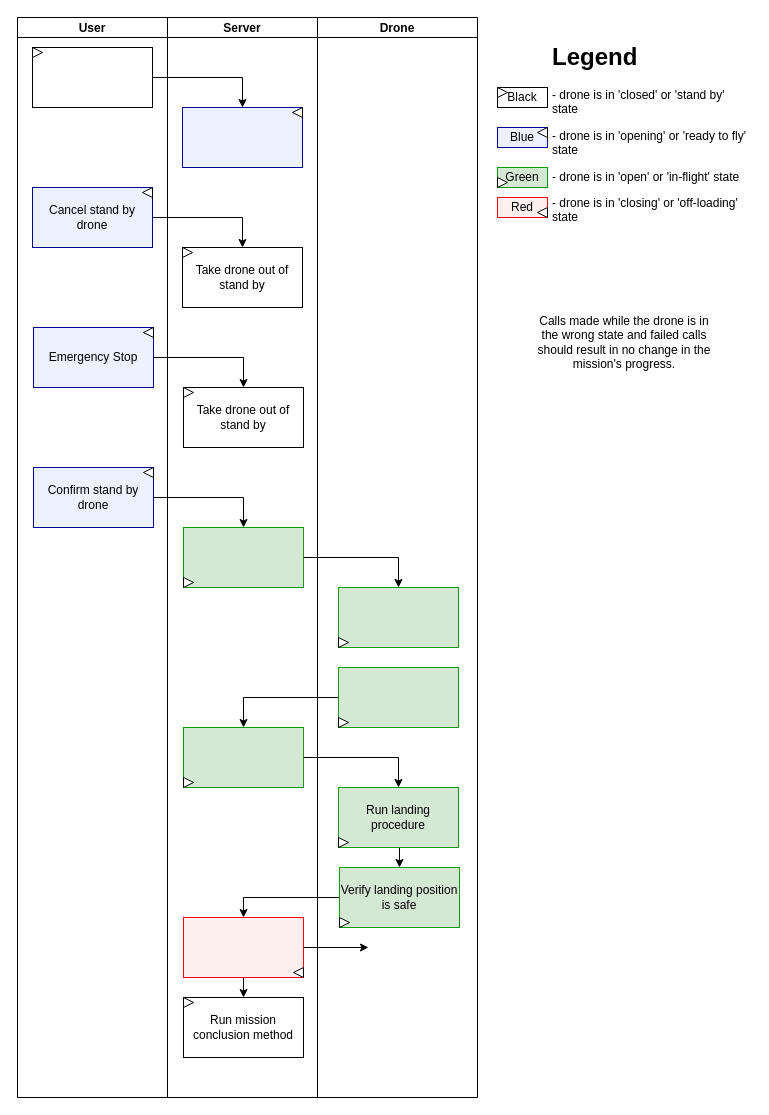
This 769x1115 diagram has some shape labels left out. Each missing label, with the centre of its shape:
"Call launch script and set to inflight" belongs at point (243, 557).
"Check if landing pad is open and safe" belongs at point (398, 697).
"Receive launch script instructions" belongs at point (398, 617).
"Request to prepare for mission" belongs at point (92, 77).
"Try to open and extend drone, stand by once done" belongs at point (242, 137).
"Verify drone position is safe and plot position" belongs at point (243, 947).
"Verify pad is open for landing" belongs at point (243, 757).
